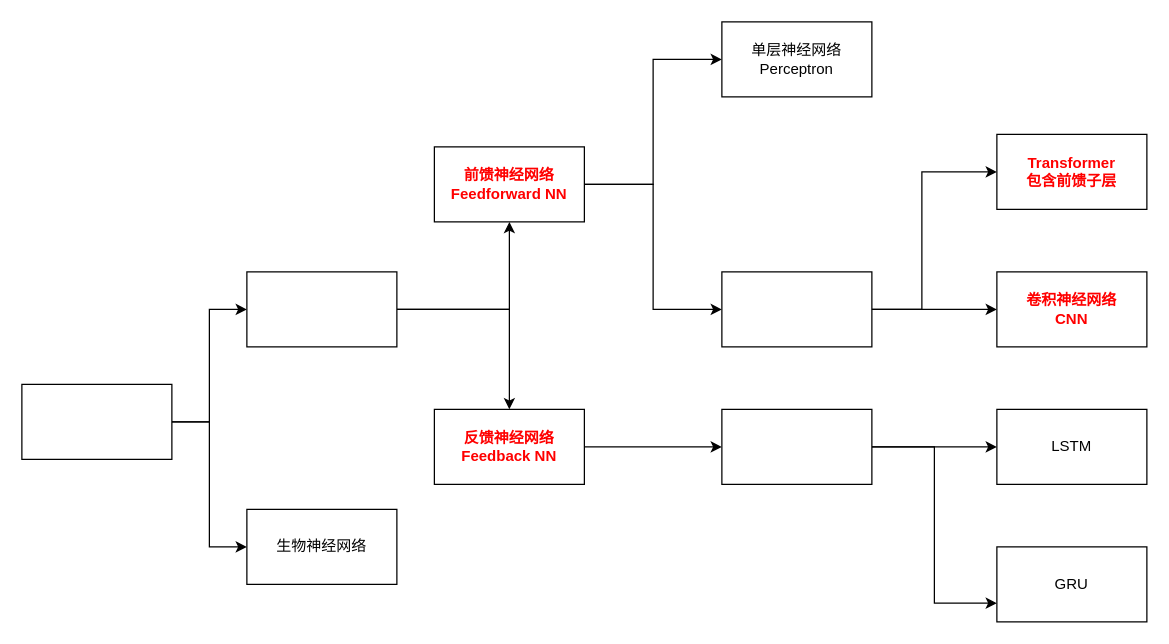
This 1169x644 diagram has some shape labels left out. The centre of each missing label's shape, as x and y in pixels:
"人工神经网络 ANN" belongs at point (321, 309).
"多层神经网络 MLP DL" belongs at point (796, 309).
"循环神经网络 RNN" belongs at point (796, 446).
"神经网络 Neural Network" belongs at point (96, 421).
